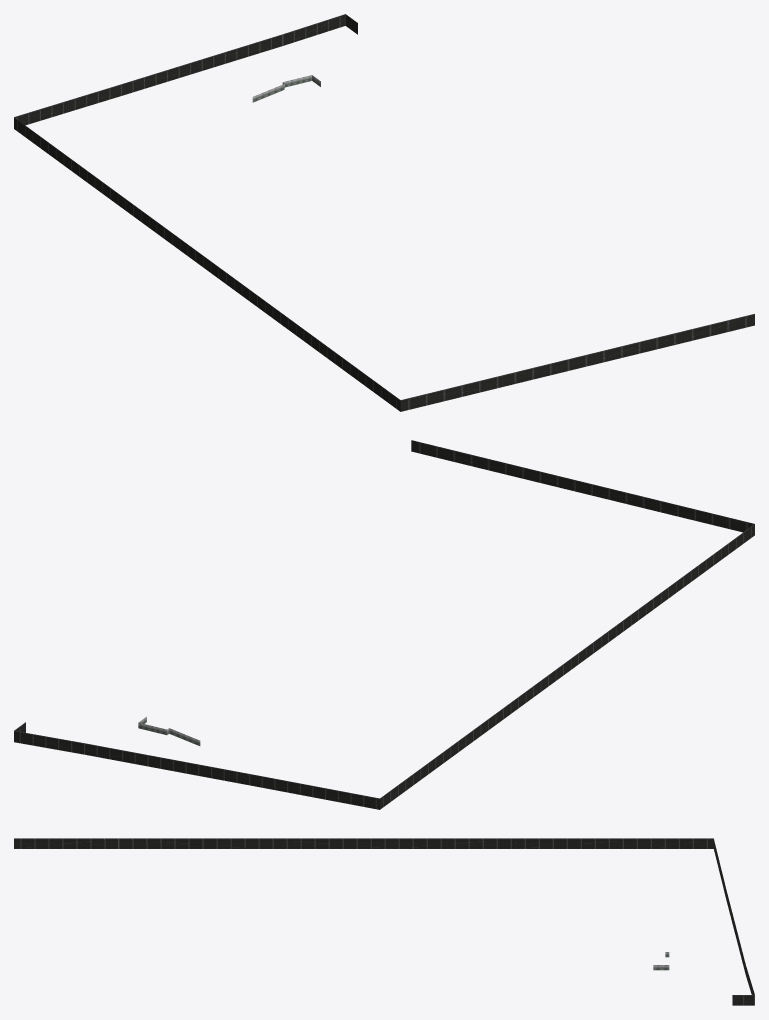
File: sw_breweryfence01.obj
3 views of the same model, one above another, from view 1: azimuth 30°, elevation 25°; view 2: azimuth 150°, elevation 25°; view 3: azimuth 270°, elevation 25° (orthographic). The views are drawn at different scales.
Parts seen in each view (by area): view 1: sw_breweryFence01; view 2: sw_breweryFence01; view 3: sw_breweryFence01.
Part boxes in pixels (x1,y1,x2,y2): sw_breweryFence01: [14, 14, 754, 411]; sw_breweryFence01: [14, 440, 754, 809]; sw_breweryFence01: [14, 838, 754, 1005].
Bounding box in the file's own units: 93.8 × 4.5 × 188.
